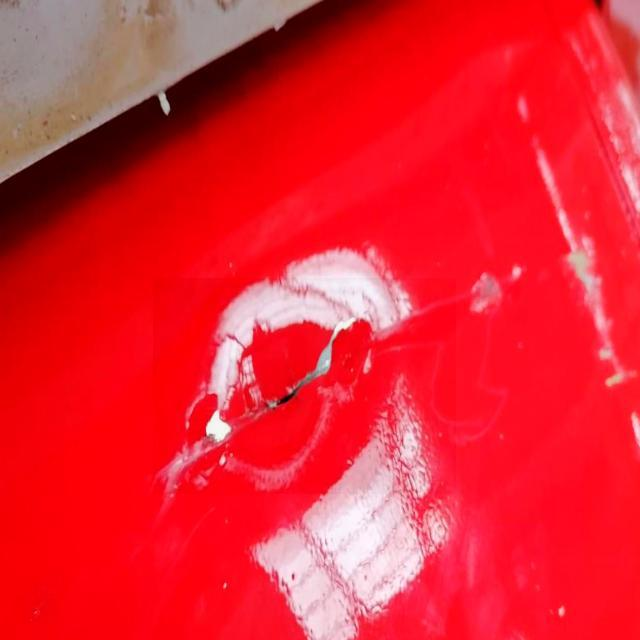crack: (154, 280, 457, 496)
